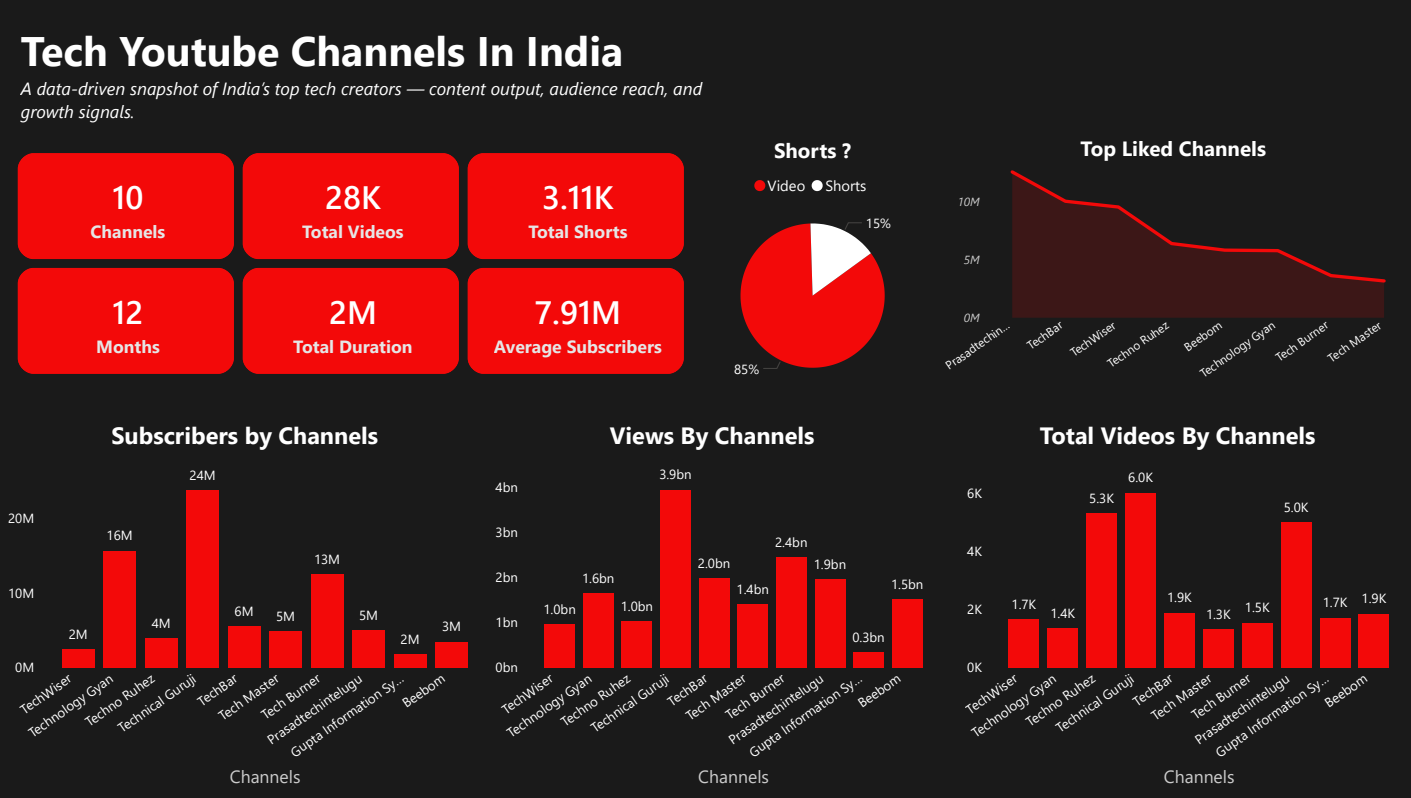

The dashboard page shown, as its layout file describes it:
{"tool":"powerbi","page":{"name":"1","canvas":[1280,720],"ordinal":0},"visuals":[{"type":"textbox","box":[15,0,640.4,123.3],"z":0},{"type":"cardVisual","fields":{"Data":["Count(yt_data_stats.channelName)","Sum(yt_data_stats.totalVideos)","CountNonNull(yt_data_videos.isShort)","Count(yt_data_stats.extractedAt.Variation.Date Hierarchy.Month)","Sum(yt_data_videos.duration)","Avg(yt_data_stats.subscribers)"]},"box":[0,123.7,640.5,235.9],"z":1000},{"type":"clusteredColumnChart","fields":{"Category":["yt_data_stats.channelName"],"Y":["Sum(yt_data_stats.subscribers)"]},"box":[0,381.4,445.8,339.2],"z":2000},{"type":"pieChart","title":"Shorts ?","fields":{"Y":["CountNonNull(yt_data_videos.ContentType)"],"Category":["yt_data_videos.ContentType"]},"box":[581.4,124.2,311.9,236.1],"z":3000},{"type":"stackedAreaChart","title":"Top Liked Channels","fields":{"Category":["yt_data_videos.channelName"],"Y":["Sum(yt_data_videos.likes)"]},"box":[849.2,123.3,430.8,237],"z":4000},{"type":"columnChart","title":"Views By Channels","fields":{"Category":["yt_data_stats.channelName"],"Y":["Sum(yt_data_stats.totalViews)"]},"box":[436.9,380.6,420.2,339.2],"z":5000},{"type":"columnChart","title":"Total Videos By Channels","fields":{"Category":["yt_data_stats.channelName"],"Y":["Sum(yt_data_stats.totalVideos)"]},"box":[857.2,381.4,422.8,339.2],"z":6000}]}

Visuals, with their boxes in screenshot pixels (x1, y1, x2, y2), scaled from the page's 1280x720 canvas onto the 1411x798 screenshot:
textbox: locate(17, 0, 722, 137)
cardVisual - Count(yt_data_stats.channelName) x Sum(yt_data_stats.totalVideos): locate(0, 137, 706, 399)
clusteredColumnChart - yt_data_stats.channelName x Sum(yt_data_stats.subscribers): locate(0, 423, 491, 797)
"Shorts ?" pieChart: locate(641, 138, 985, 399)
"Top Liked Channels" stackedAreaChart: locate(936, 137, 1410, 399)
"Views By Channels" columnChart: locate(482, 422, 945, 797)
"Total Videos By Channels" columnChart: locate(945, 423, 1410, 797)
